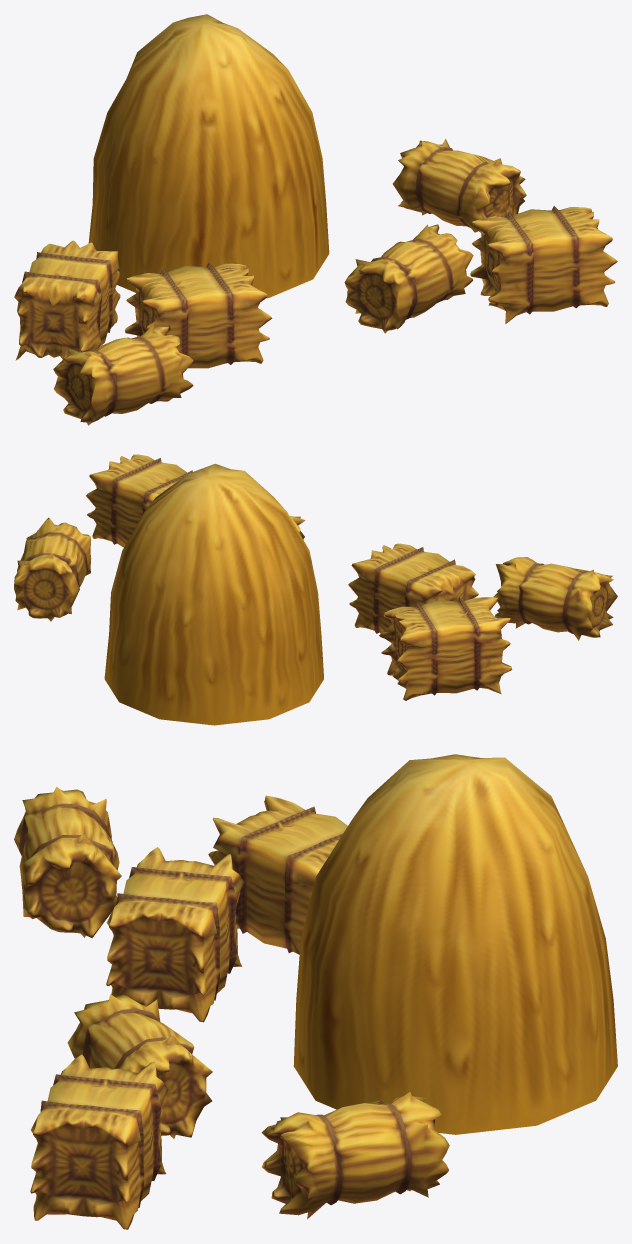
The model's file is botte-foin.glb.
3 renders of one model, top to bottom at view 1: azimuth 30°, elevation 25°; view 2: azimuth 150°, elevation 25°; view 3: azimuth 270°, elevation 25°, orthographic. The views are drawn at different scales.
Parts seen in each view (by area): view 1: HayCock_Straw_Straw_SG_0; view 2: HayCock_Straw_Straw_SG_0; view 3: HayCock_Straw_Straw_SG_0.
Boxes of the visible parts, x1,y1,x2,y2 form: HayCock_Straw_Straw_SG_0: (14,14,617,425); HayCock_Straw_Straw_SG_0: (14,454,617,725); HayCock_Straw_Straw_SG_0: (14,754,617,1229).
Size of the model in its own units: 2.52 by 0.9943 by 1.78.
1 material, 1 textured.
